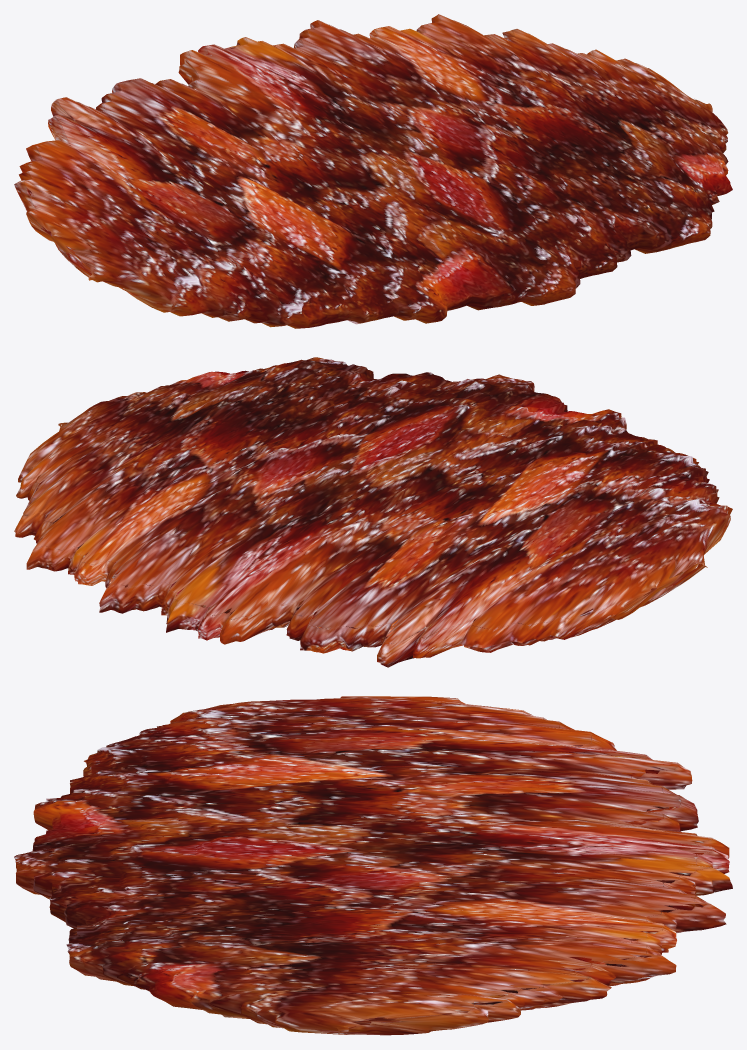
File: bacon-jam.glb
The picture shows the model from 3 angles, top to bottom: view 1: azimuth 30°, elevation 25°; view 2: azimuth 150°, elevation 25°; view 3: azimuth 270°, elevation 25°; orthographic projection. The views are drawn at different scales.
Visible parts, largest first — view 1: bacon-jam; view 2: bacon-jam; view 3: bacon-jam.
Part boxes in pixels (x1,y1,x2,y2): bacon-jam: (14, 14, 732, 328); bacon-jam: (14, 357, 732, 667); bacon-jam: (14, 696, 732, 1035).
Bounding box in the file's own units: 0.83 × 0.064 × 0.76.
1 material, 1 textured.
